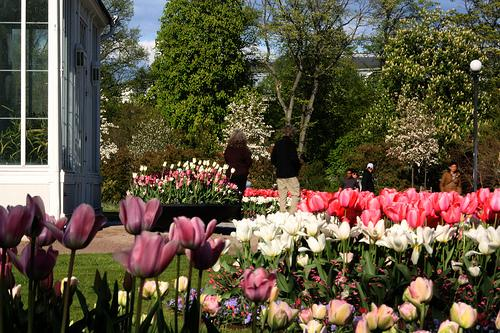tulip: (112, 232, 177, 275), (52, 202, 102, 256), (118, 191, 157, 236), (176, 214, 217, 249), (239, 265, 274, 304), (1, 202, 28, 249), (187, 238, 221, 273), (261, 302, 299, 329), (374, 303, 400, 332), (328, 297, 353, 325), (451, 302, 477, 325), (408, 277, 430, 302), (402, 205, 425, 225), (339, 188, 360, 208), (369, 197, 384, 224), (308, 191, 327, 210), (204, 294, 220, 316), (399, 303, 417, 320), (306, 193, 323, 209), (436, 194, 454, 209), (478, 189, 492, 205), (436, 192, 445, 208)
